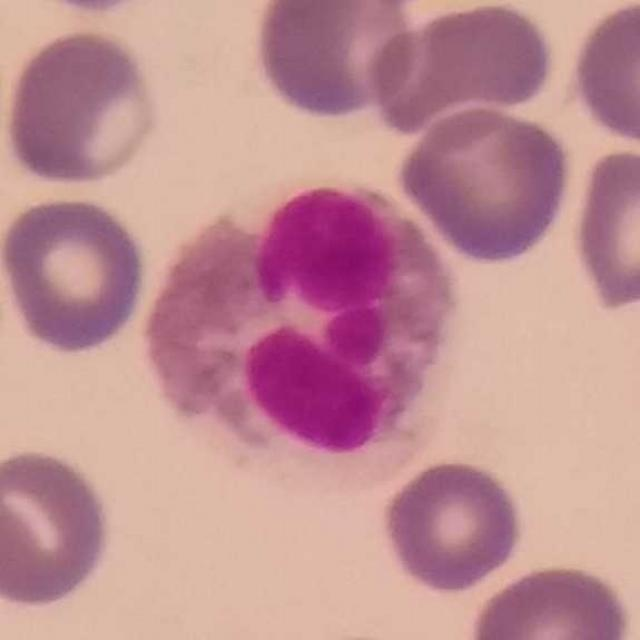eosino: (144, 175, 463, 492)
